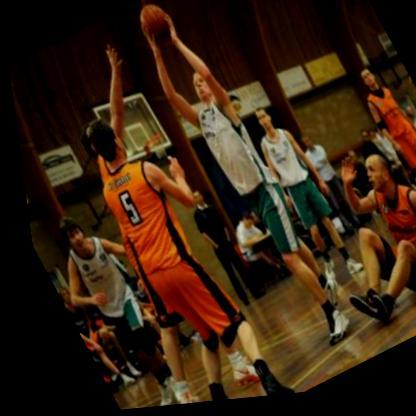basketball: (134, 1, 181, 52)
